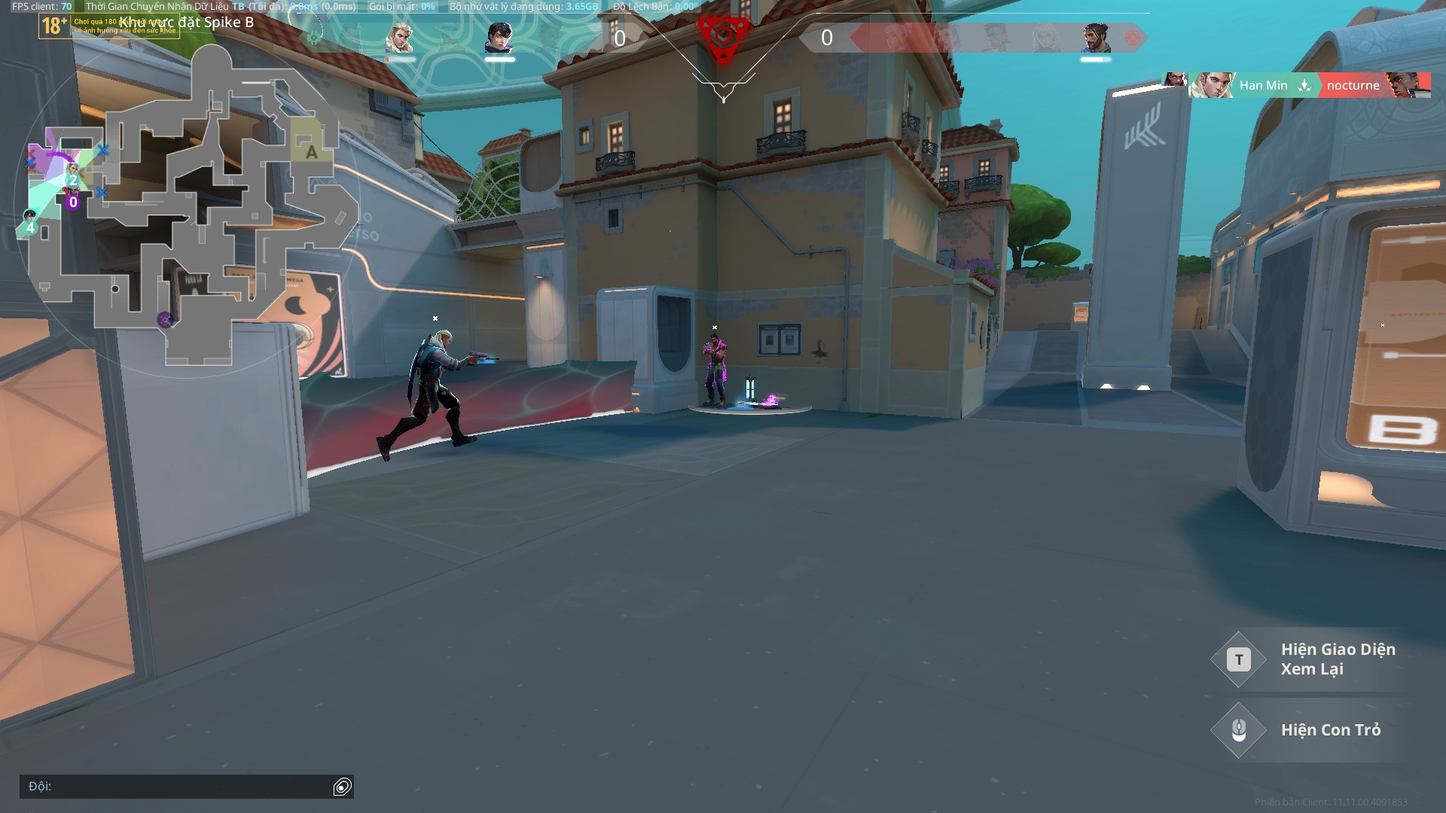body: (706, 340, 726, 366)
head: (710, 333, 720, 345)
